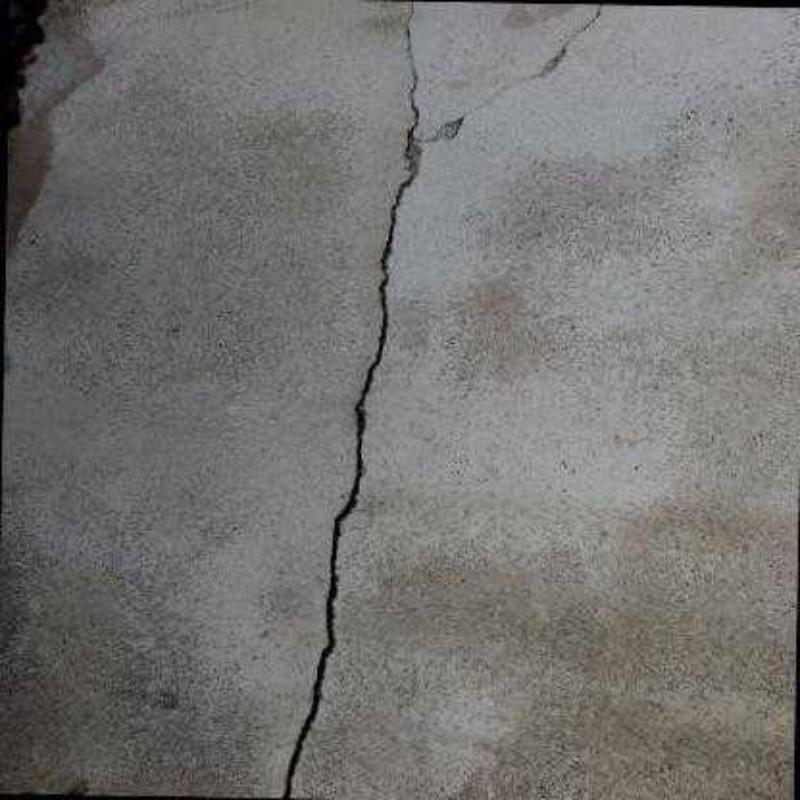pothole: (281, 0, 423, 798), (423, 5, 602, 144)
